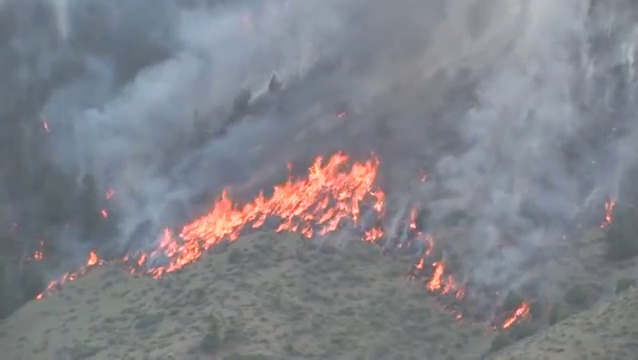fire: (165, 154, 380, 271), (428, 266, 442, 290), (87, 251, 96, 264)
